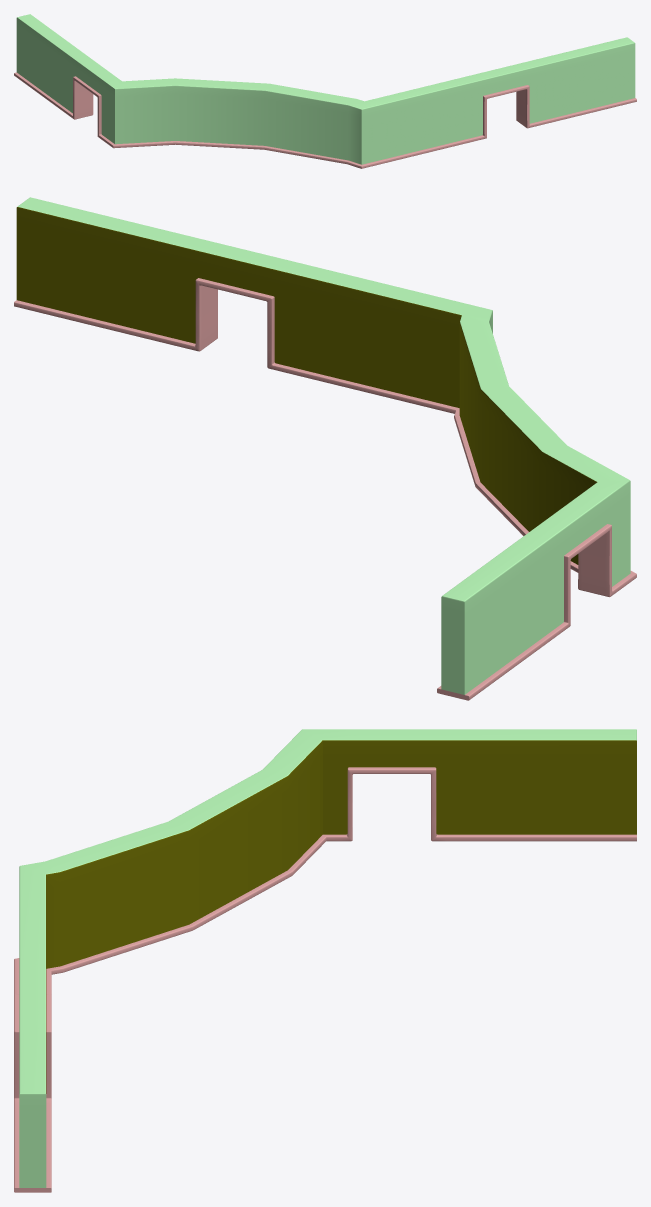
The model's file is InnerWall_2.fbx.
The picture shows the model from 3 angles, top to bottom: view 1: azimuth 30°, elevation 25°; view 2: azimuth 150°, elevation 25°; view 3: azimuth 270°, elevation 25°; orthographic projection. The views are drawn at different scales.
Visible parts, largest first — view 1: polySurface3; view 2: polySurface3; view 3: polySurface3.
Part boxes in pixels (x1,y1,x2,y2): polySurface3: (14,14,636,168); polySurface3: (14,197,636,700); polySurface3: (14,729,636,1192).
Size of the model in its own units: 32.19 by 4.06 by 23.1.
